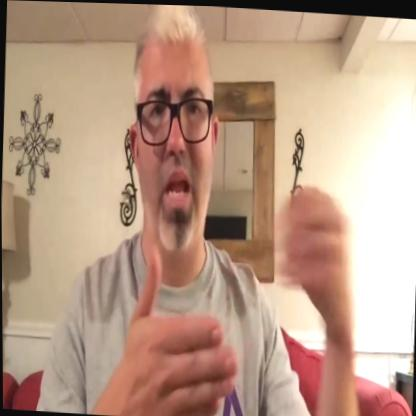Expensive: (114, 162, 359, 416)
